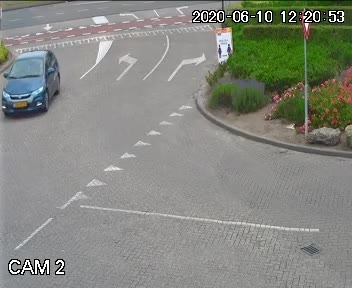car: (0, 52, 79, 125)
